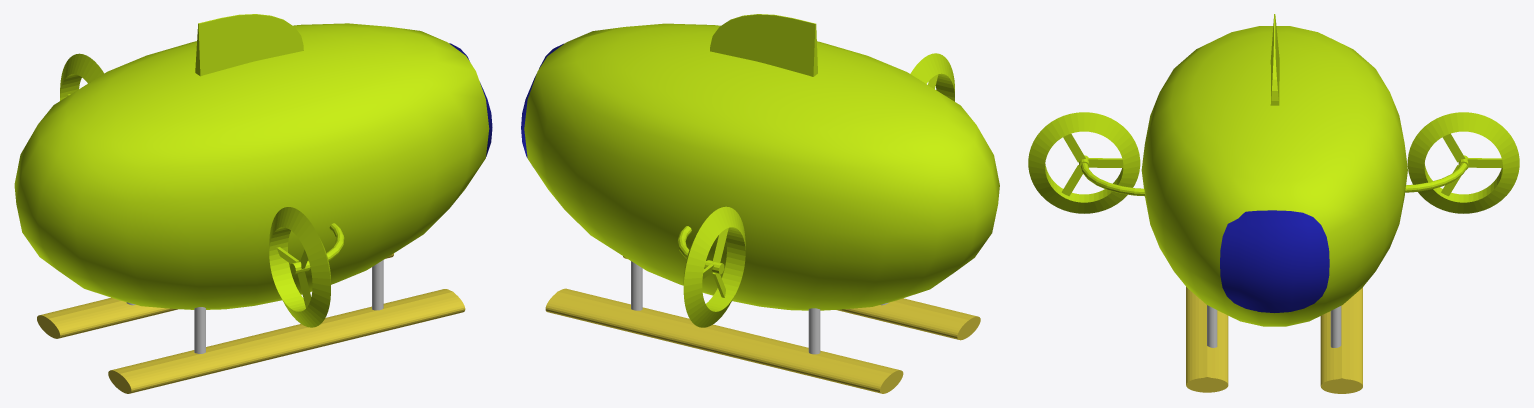
File: submarin1.gltf
3 views of the same model, side by side, from view 1: azimuth 30°, elevation 25°; view 2: azimuth 150°, elevation 25°; view 3: azimuth 270°, elevation 25° (orthographic). The views are drawn at different scales.
Parts seen in each view (by area): view 1: submarin; view 2: submarin; view 3: submarin.
Part boxes in pixels (bbox=[...]): submarin: bbox=[14, 14, 492, 393]; submarin: bbox=[521, 14, 999, 393]; submarin: bbox=[1028, 14, 1519, 393].
Bounding box in the file's own units: 6.19 × 4.12 × 6.49.
